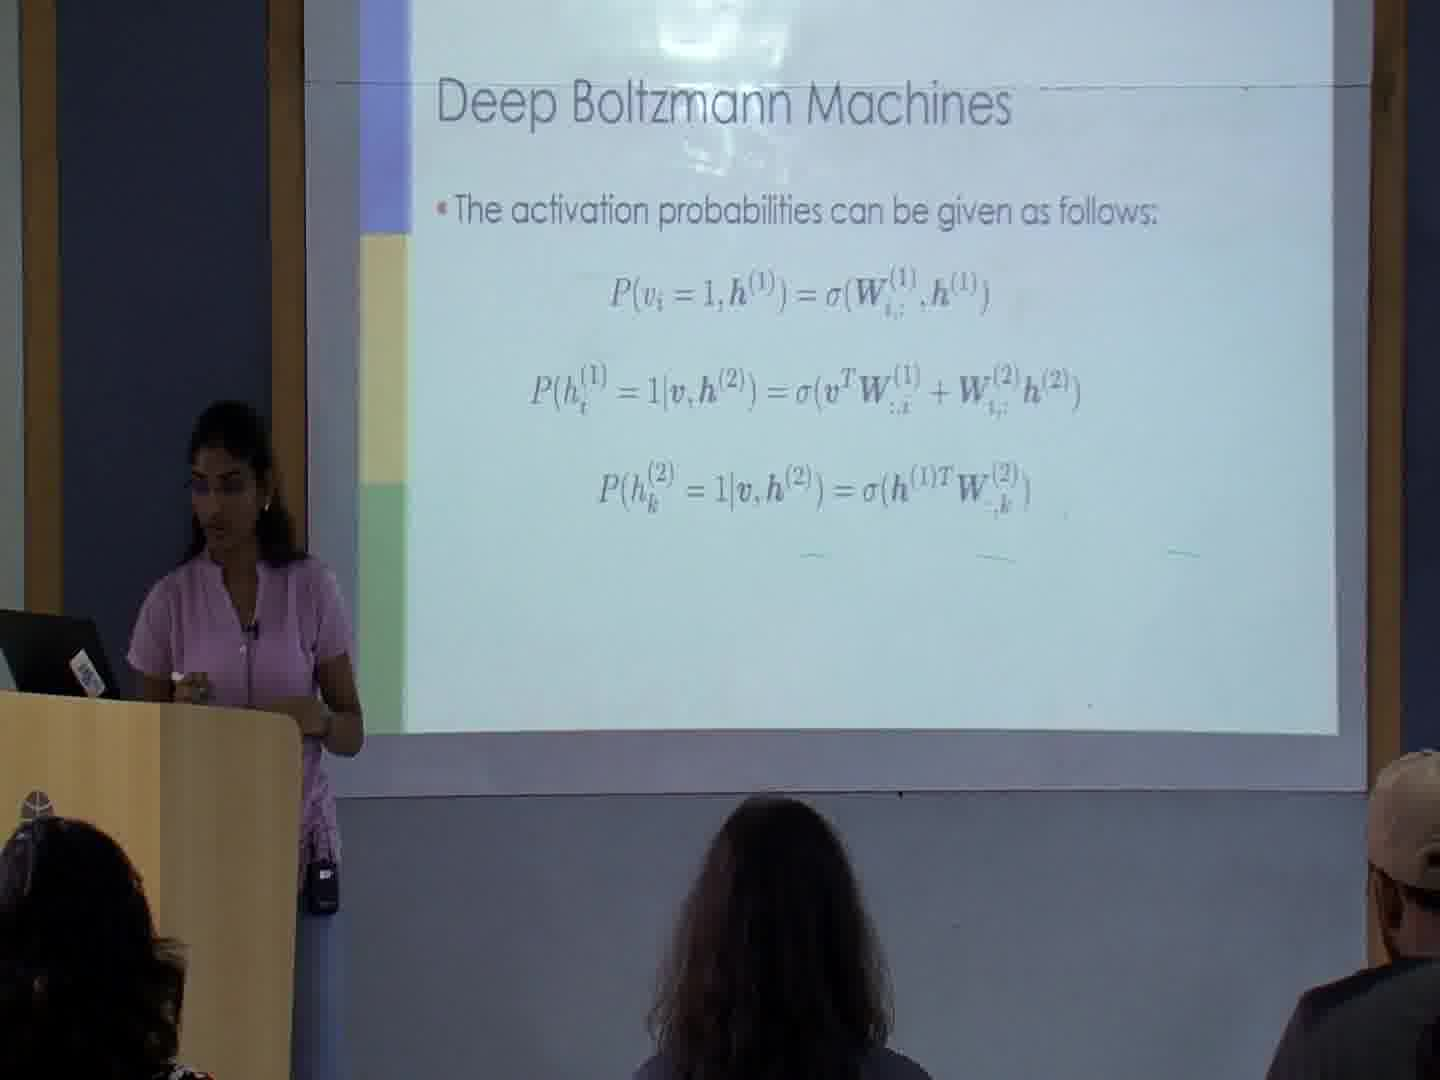eq: (530, 358, 1089, 425), (596, 455, 1041, 520), (605, 265, 996, 324)
